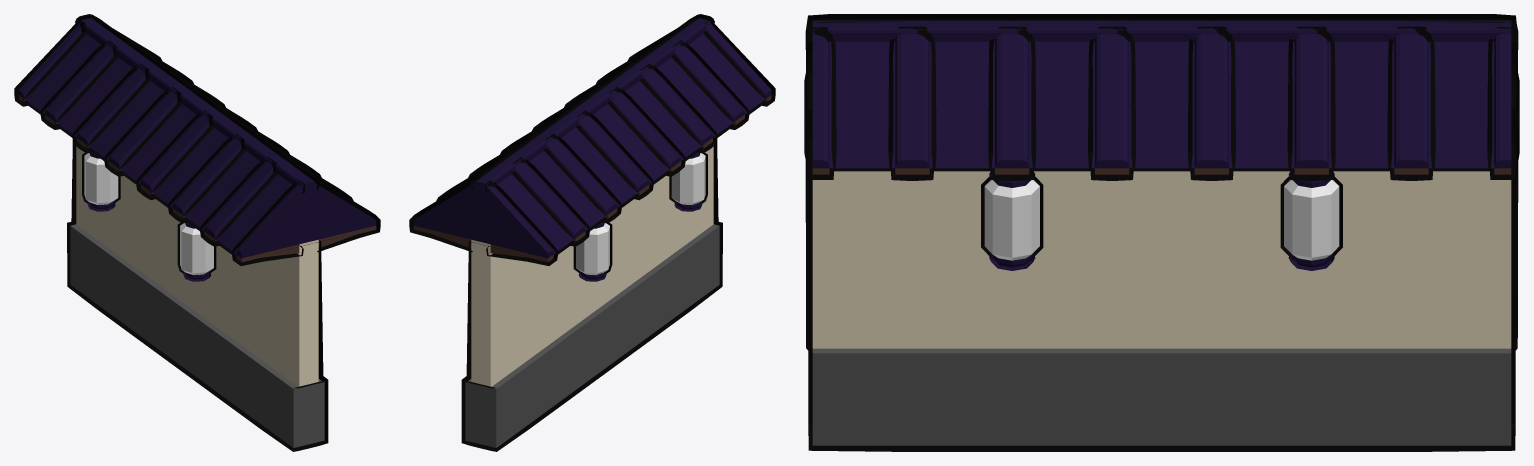
Rendered from wall.fbx.
3 renders of one model, left to right at view 1: azimuth 30°, elevation 25°; view 2: azimuth 150°, elevation 25°; view 3: azimuth 270°, elevation 25°, orthographic. The views are drawn at different scales.
Visible parts, largest first — view 1: Wall, Lanterns; view 2: Wall, Lanterns; view 3: Wall, Lanterns.
Boxes of the visible parts, bbox=[...] form: Wall: bbox=[14, 14, 380, 451]; Lanterns: bbox=[82, 152, 216, 281]; Wall: bbox=[409, 14, 775, 451]; Lanterns: bbox=[573, 152, 707, 281]; Wall: bbox=[804, 14, 1519, 451]; Lanterns: bbox=[981, 172, 1342, 270].
Size of the model in its own units: 441 by 800 by 1228.
